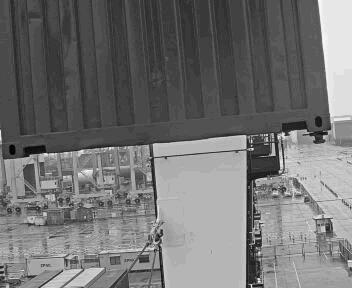twist_lock_1: (198, 160, 264, 200)
